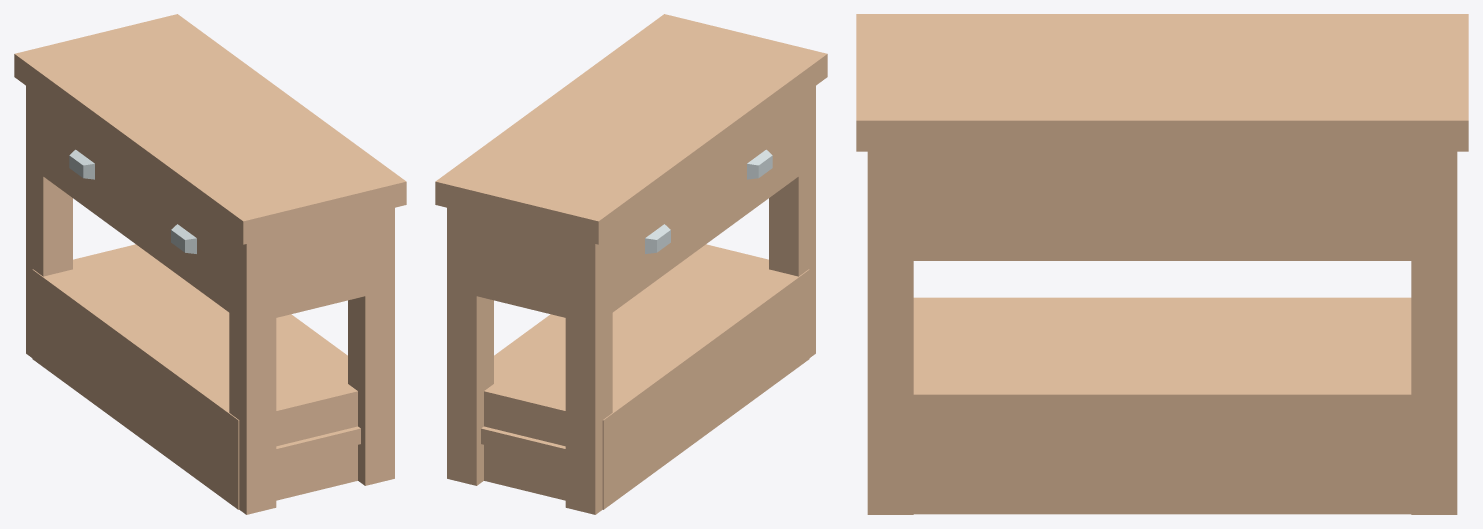
File: Bathroom_Shelf.glb
3 renders of one model, left to right at view 1: azimuth 30°, elevation 25°; view 2: azimuth 150°, elevation 25°; view 3: azimuth 270°, elevation 25°, orthographic. The views are drawn at different scales.
Visible parts, largest first — view 1: Bathroom_Shelf; view 2: Bathroom_Shelf; view 3: Bathroom_Shelf.
Boxes of the visible parts, left/top/right/bottom form: Bathroom_Shelf: left=14, top=14, right=406, bottom=514; Bathroom_Shelf: left=435, top=14, right=827, bottom=514; Bathroom_Shelf: left=856, top=14, right=1468, bottom=514.
Size of the model in its own units: 0.2223 by 0.3844 by 0.5345.
